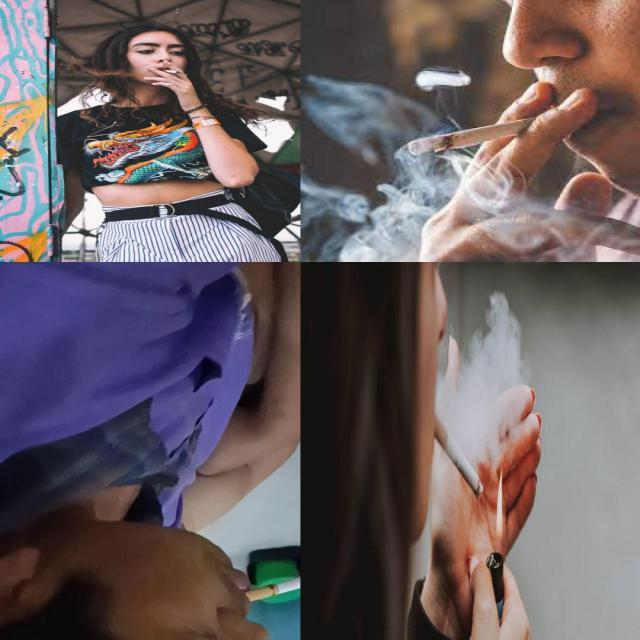smoke: (410, 110, 574, 156), (430, 412, 484, 499), (245, 564, 300, 602), (161, 66, 181, 74)
